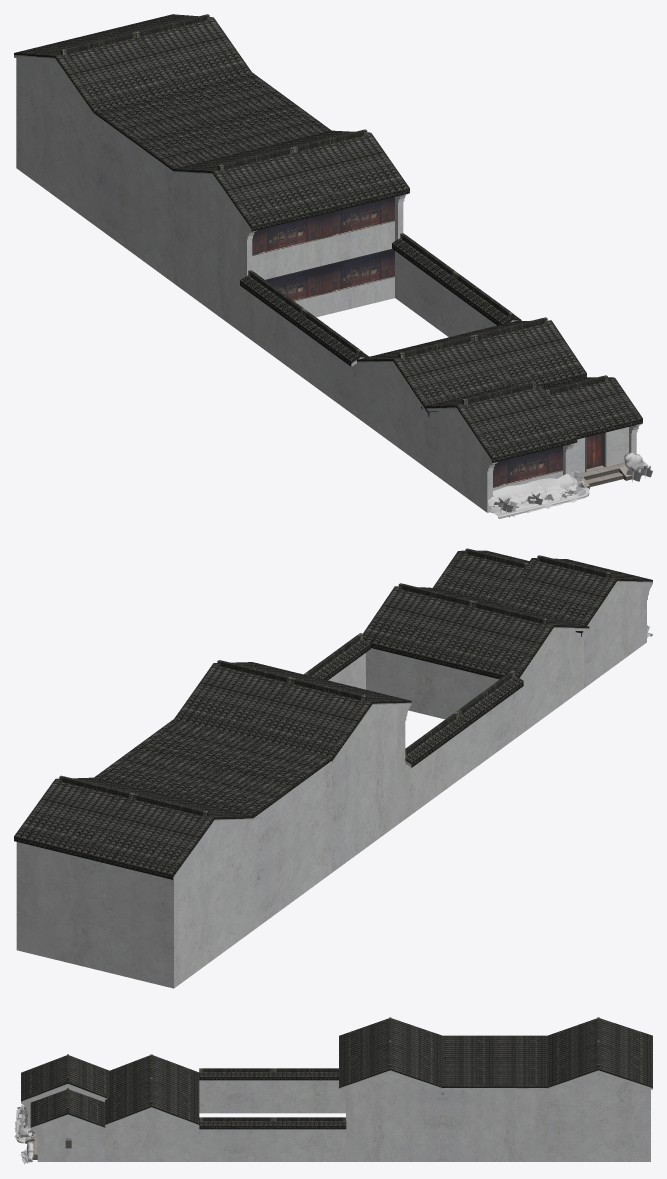
Rendered from Building_Yulanju.FBX.
3 views of the same model, one above another, from view 1: azimuth 30°, elevation 25°; view 2: azimuth 150°, elevation 25°; view 3: azimuth 270°, elevation 25° (orthographic). The views are drawn at different scales.
Parts seen in each view (by area): view 1: Building_Yulanju, Building_Yulanju_Flower; view 2: Building_Yulanju; view 3: Building_Yulanju, Building_Yulanju_Flower.
Boxes of the visible parts, x1=… form: Building_Yulanju: x1=14, y1=14, x2=642, y2=512; Building_Yulanju_Flower: x1=488, y1=470, x2=589, y2=517; Building_Yulanju: x1=14, y1=548, x2=652, y2=988; Building_Yulanju: x1=21, y1=1017, x2=652, y2=1161; Building_Yulanju_Flower: x1=14, y1=1104, x2=34, y2=1143.
Bounding box in the file's own units: 1054 × 889 × 5176.
